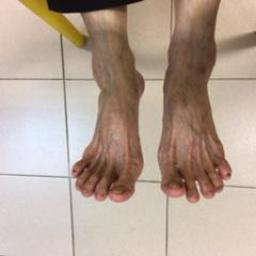Dorsal View -Both Feet-: (61, 25, 241, 209)
